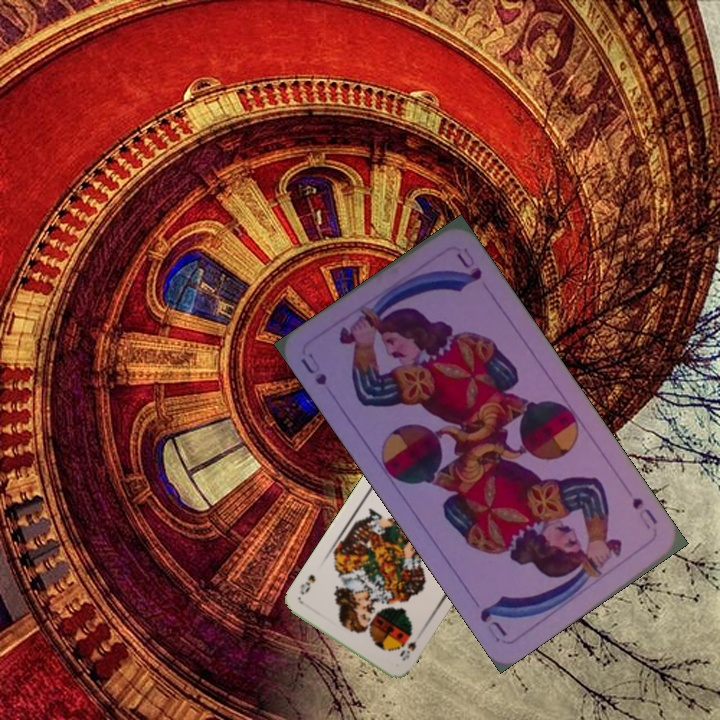SO: (396, 628, 419, 663)
SU: (296, 348, 330, 388), (628, 493, 661, 527)
